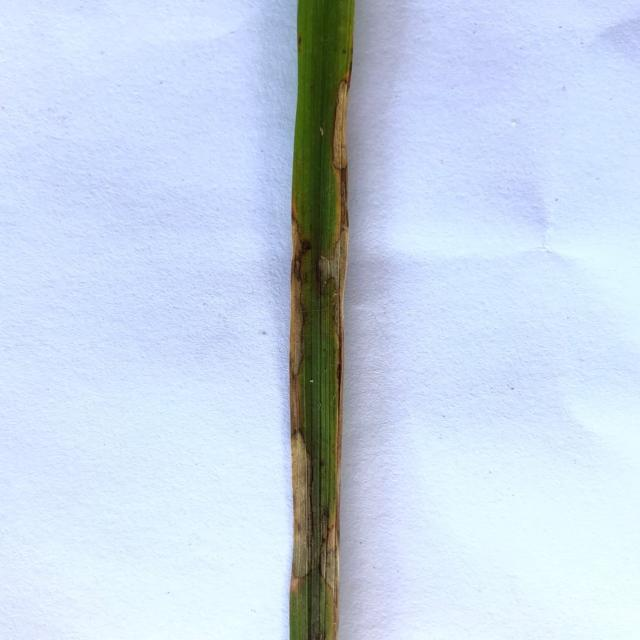Leaf Blight: (319, 62, 352, 319), (291, 212, 307, 447), (288, 433, 311, 595), (319, 499, 339, 640)
